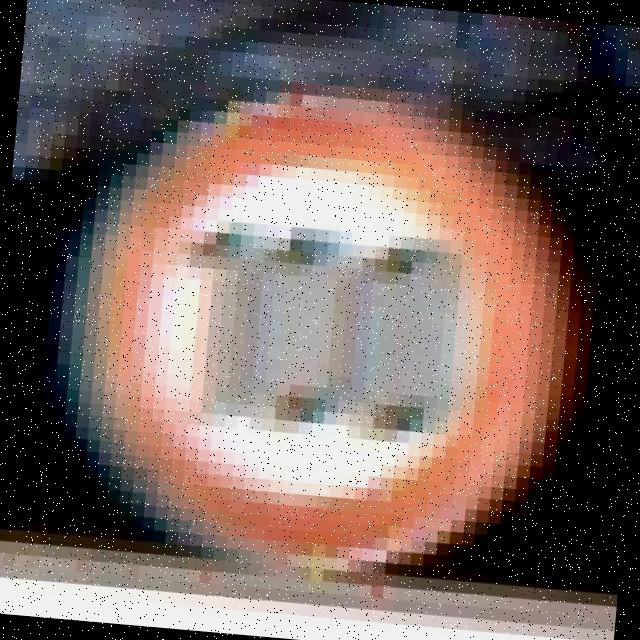Ograniczenie predkosci do 100: (69, 81, 568, 584)
